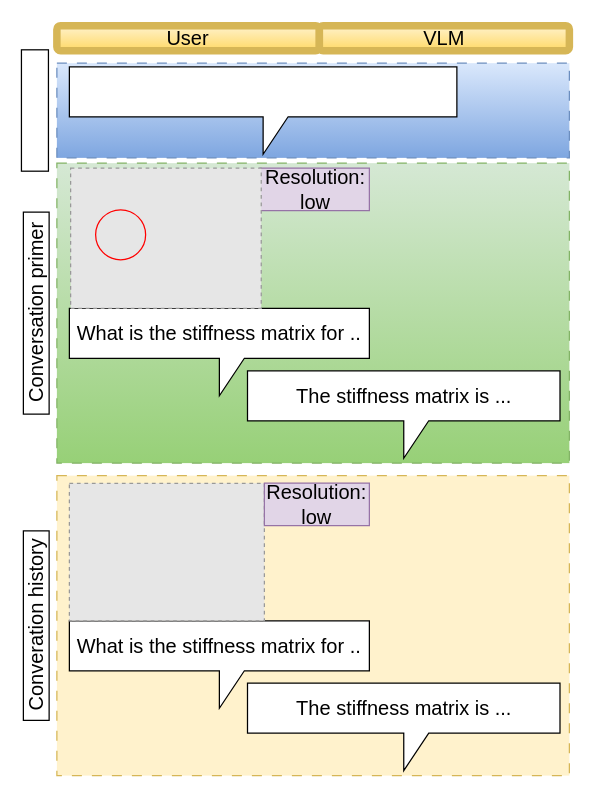
This 595x798 diagram has some shape labels left out. Grey dashed boxes stand in for pictures. The box of each missing label's shape, as (x1, y1, x2, y2) in pixels:
Repurposing: (20, 48, 48, 171)
You are a stiffness matrix generator that ..: (68, 66, 457, 154)
